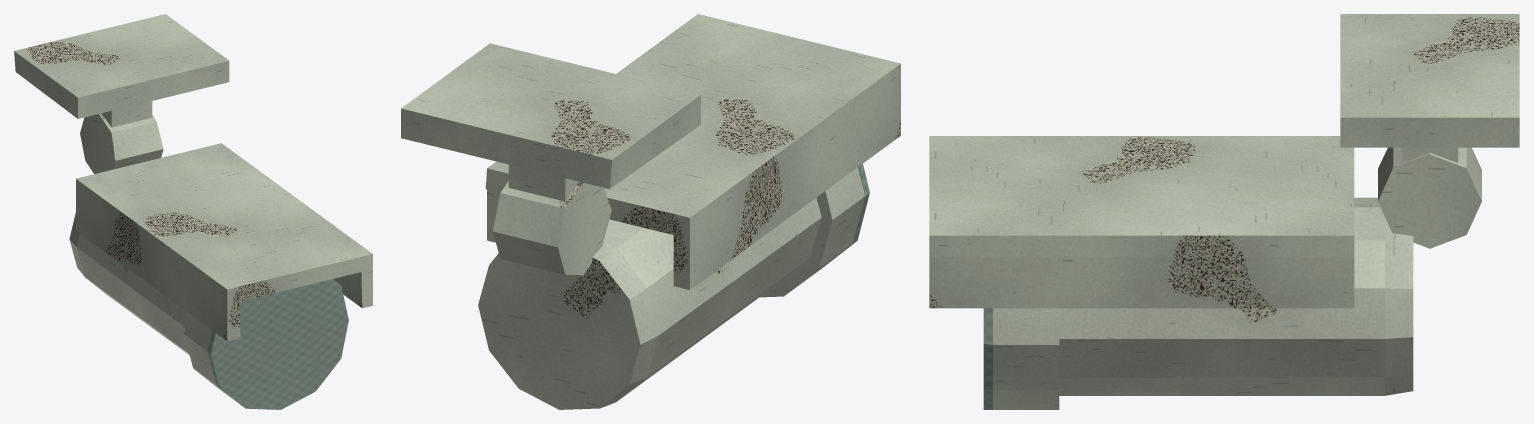
File: camera1_v1.glb
The picture shows the model from 3 angles, left to right: view 1: azimuth 30°, elevation 25°; view 2: azimuth 150°, elevation 25°; view 3: azimuth 270°, elevation 25°; orthographic projection. The views are drawn at different scales.
Visible parts, largest first — view 1: Variant_camera1_1; view 2: Variant_camera1_1; view 3: Variant_camera1_1.
Part boxes in pixels (<box>): Variant_camera1_1: <box>14,14,372,409</box>; Variant_camera1_1: <box>401,14,900,409</box>; Variant_camera1_1: <box>929,14,1519,409</box>.
Size of the model in its own units: 0.104 by 0.156 by 0.25.
Materials: 2 (2 with a texture image).
